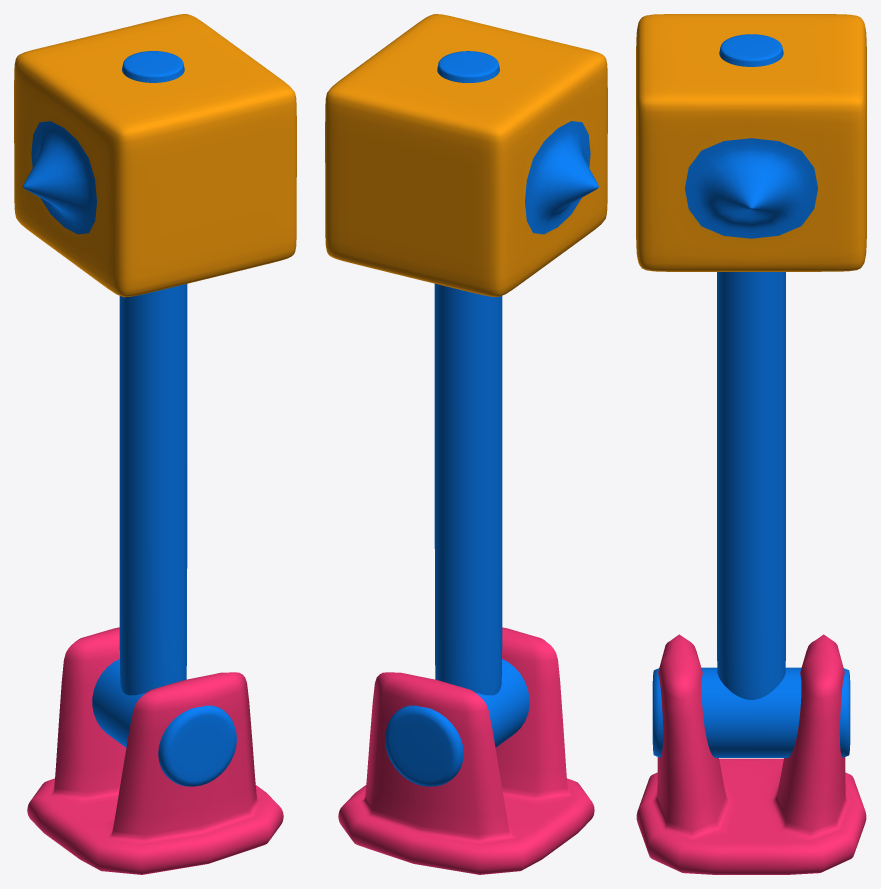
3 views of the same model, side by side, from view 1: azimuth 30°, elevation 25°; view 2: azimuth 150°, elevation 25°; view 3: azimuth 270°, elevation 25° (orthographic). The views are drawn at different scales.
Visible parts, largest first — view 1: Engel, Kol.003, Merkez.002; view 2: Engel, Kol.003, Merkez.002; view 3: Engel, Kol.003, Merkez.002.
Part boxes in pixels (bbox=[...]): Engel: bbox=[14, 14, 296, 297]; Kol.003: bbox=[92, 51, 236, 786]; Merkez.002: bbox=[27, 627, 283, 874]; Engel: bbox=[325, 14, 607, 296]; Kol.003: bbox=[385, 51, 529, 786]; Merkez.002: bbox=[338, 627, 594, 874]; Engel: bbox=[636, 14, 866, 271]; Kol.003: bbox=[652, 34, 850, 757]; Merkez.002: bbox=[636, 634, 866, 874].
Size of the model in its own units: 21.78 by 60.15 by 16.06.
